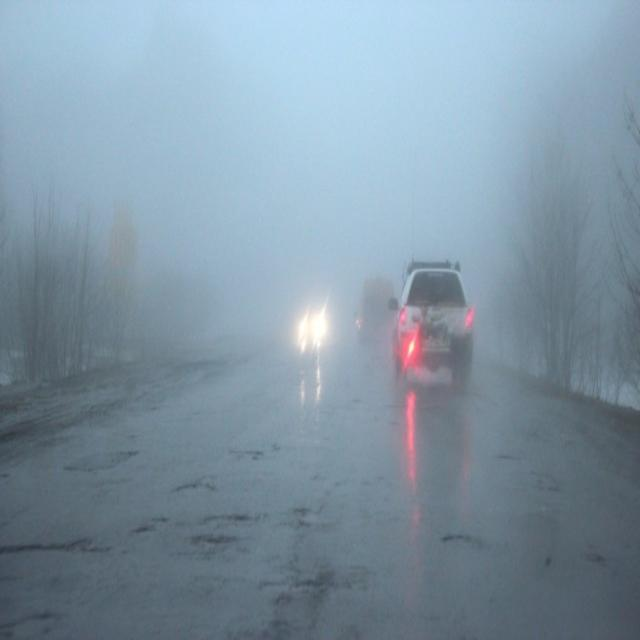car: (391, 264, 475, 393)
